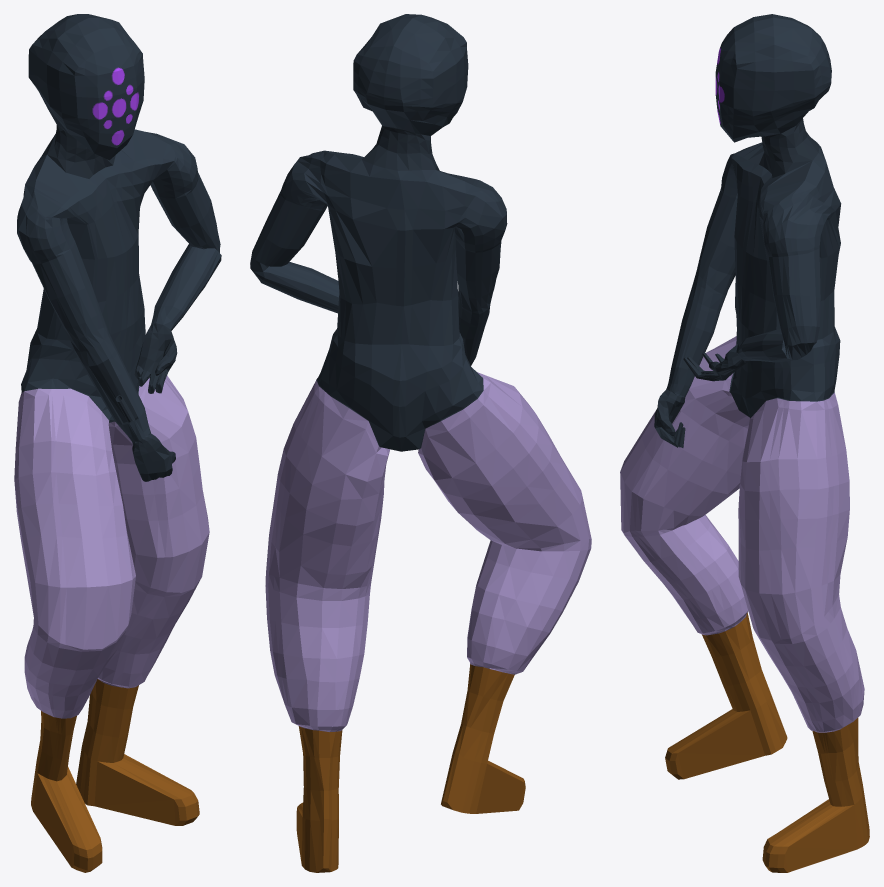
The model's file is Oracle_WL_000023.obj.
3 views of the same model, side by side, from view 1: azimuth 30°, elevation 25°; view 2: azimuth 150°, elevation 25°; view 3: azimuth 270°, elevation 25° (orthographic). The views are drawn at different scales.
Visible parts, largest first — view 1: Cube; view 2: Cube; view 3: Cube.
Boxes of the visible parts, left/top/right/bottom form: Cube: left=14, top=14, right=221, bottom=872; Cube: left=250, top=14, right=591, bottom=872; Cube: left=620, top=14, right=869, bottom=872.
Size of the model in its own units: 1.25 by 3.87 by 1.09.
